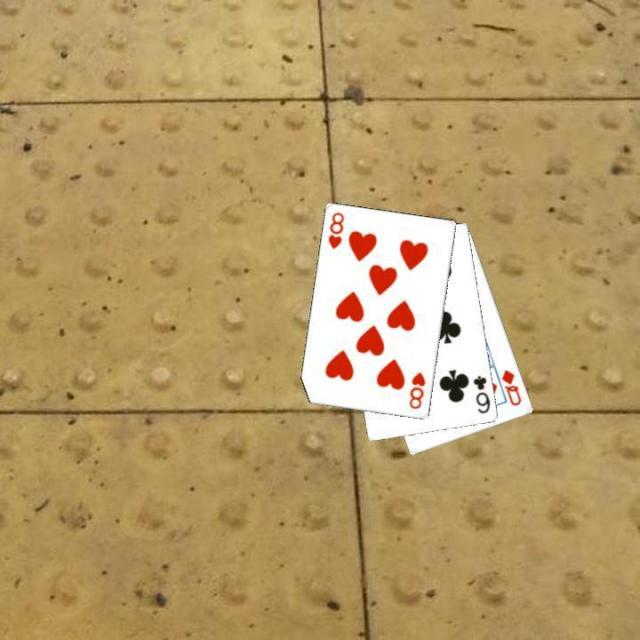6C: (470, 372, 493, 416)
8H: (406, 368, 428, 412), (324, 209, 346, 251)
QD: (498, 365, 524, 407)
